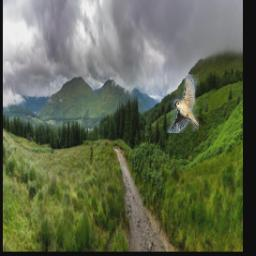Sparrow: (167, 74, 199, 133)
